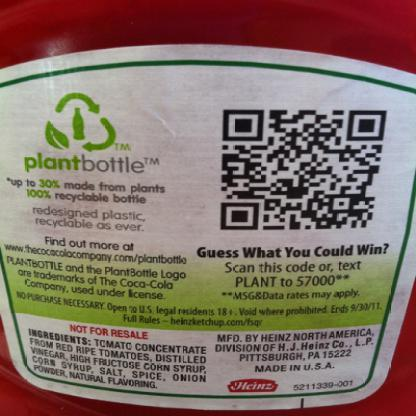qr_code: (219, 109, 387, 232)
